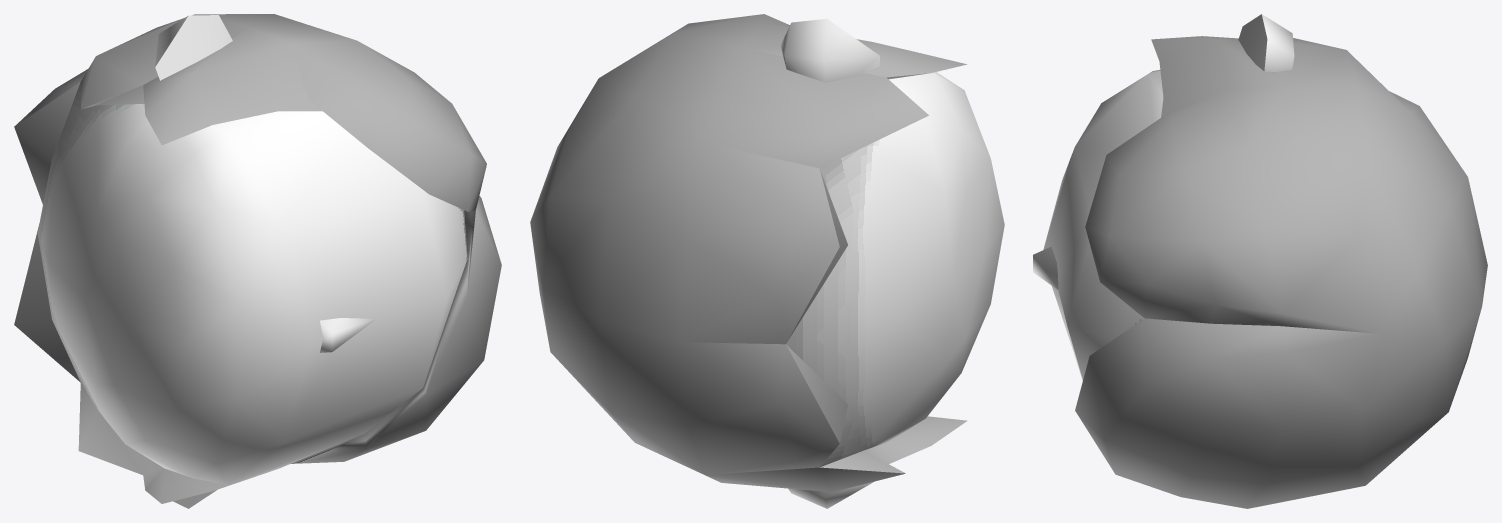
Rendered from girl11a.dae.
The picture shows the model from 3 angles, left to right: view 1: azimuth 30°, elevation 25°; view 2: azimuth 150°, elevation 25°; view 3: azimuth 270°, elevation 25°; orthographic projection. The views are drawn at different scales.
Parts seen in each view (by area): view 1: girl11a; view 2: girl11a; view 3: girl11a.
Boxes of the visible parts, <box> form: girl11a: <box>14,14,501,508</box>; girl11a: <box>530,14,1004,508</box>; girl11a: <box>1033,14,1487,508</box>.
Size of the model in its own units: 21.66 by 26.71 by 23.15.
3 materials, 1 textured.
